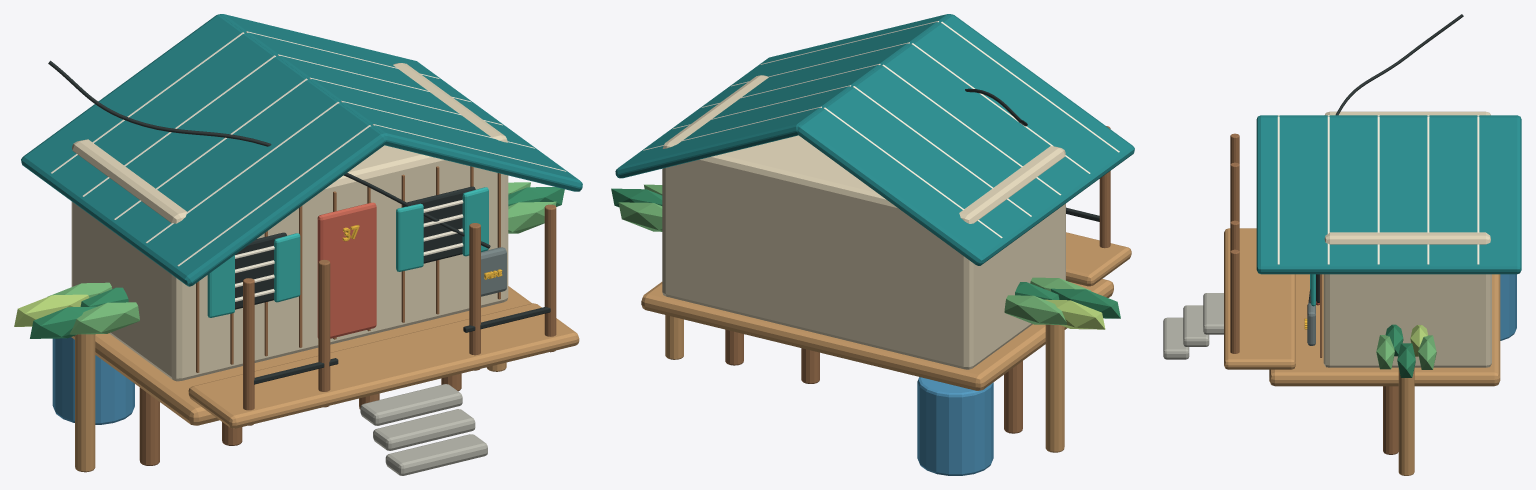
Rendered from kampung-call-v2.glb.
3 renders of one model, left to right at view 1: azimuth 30°, elevation 25°; view 2: azimuth 150°, elevation 25°; view 3: azimuth 270°, elevation 25°, orthographic. The views are drawn at different scales.
Parts seen in each view (by area): view 1: UNCLE LIM KAMPUNG CALL KIT · Deep teal, UNCLE LIM KAMPUNG CALL KIT · Warm plaster, UNCLE LIM KAMPUNG CALL KIT · Sun timber, UNCLE LIM KAMPUNG CALL KIT · Timber, UNCLE LIM KAMPUNG CALL KIT · Concrete, UNCLE LIM KAMPUNG CALL KIT · Ink, UNCLE LIM KAMPUNG CALL KIT · Terracotta, UNCLE LIM KAMPUNG CALL KIT · Weathered teal, UNCLE LIM KAMPUNG CALL KIT · Chalk, UNCLE LIM KAMPUNG CALL KIT · Utility blue, UNCLE LIM KAMPUNG CALL KIT · Plant mid, UNCLE LIM KAMPUNG CALL KIT · Plant deep (+2 smaller); view 2: UNCLE LIM KAMPUNG CALL KIT · Warm plaster, UNCLE LIM KAMPUNG CALL KIT · Deep teal, UNCLE LIM KAMPUNG CALL KIT · Sun timber, UNCLE LIM KAMPUNG CALL KIT · Utility blue, UNCLE LIM KAMPUNG CALL KIT · Timber, UNCLE LIM KAMPUNG CALL KIT · Chalk, UNCLE LIM KAMPUNG CALL KIT · Plant mid, UNCLE LIM KAMPUNG CALL KIT · Plant deep, UNCLE LIM KAMPUNG CALL KIT · Plant lime; view 3: UNCLE LIM KAMPUNG CALL KIT · Deep teal, UNCLE LIM KAMPUNG CALL KIT · Warm plaster, UNCLE LIM KAMPUNG CALL KIT · Sun timber, UNCLE LIM KAMPUNG CALL KIT · Timber, UNCLE LIM KAMPUNG CALL KIT · Concrete, UNCLE LIM KAMPUNG CALL KIT · Chalk, UNCLE LIM KAMPUNG CALL KIT · Utility blue, UNCLE LIM KAMPUNG CALL KIT · Plant mid, UNCLE LIM KAMPUNG CALL KIT · Plant deep, UNCLE LIM KAMPUNG CALL KIT · Ink.
Boxes of the visible parts, x1,y1,x2,y2 form: UNCLE LIM KAMPUNG CALL KIT · Deep teal: [21, 14, 582, 286]; UNCLE LIM KAMPUNG CALL KIT · Warm plaster: [71, 63, 508, 381]; UNCLE LIM KAMPUNG CALL KIT · Sun timber: [71, 286, 579, 472]; UNCLE LIM KAMPUNG CALL KIT · Timber: [139, 166, 556, 465]; UNCLE LIM KAMPUNG CALL KIT · Concrete: [360, 384, 487, 475]; UNCLE LIM KAMPUNG CALL KIT · Ink: [48, 60, 550, 384]; UNCLE LIM KAMPUNG CALL KIT · Terracotta: [317, 202, 376, 338]; UNCLE LIM KAMPUNG CALL KIT · Weathered teal: [207, 187, 488, 317]; UNCLE LIM KAMPUNG CALL KIT · Chalk: [51, 31, 566, 301]; UNCLE LIM KAMPUNG CALL KIT · Utility blue: [52, 337, 134, 424]; UNCLE LIM KAMPUNG CALL KIT · Plant mid: [47, 182, 556, 334]; UNCLE LIM KAMPUNG CALL KIT · Plant deep: [30, 187, 564, 338]; UNCLE LIM KAMPUNG CALL KIT · Warm plaster: [662, 75, 1065, 369]; UNCLE LIM KAMPUNG CALL KIT · Deep teal: [615, 14, 1134, 265]; UNCLE LIM KAMPUNG CALL KIT · Sun timber: [641, 232, 1131, 452]; UNCLE LIM KAMPUNG CALL KIT · Utility blue: [917, 377, 993, 475]; UNCLE LIM KAMPUNG CALL KIT · Timber: [725, 126, 1110, 433]; UNCLE LIM KAMPUNG CALL KIT · Chalk: [643, 21, 1119, 238]; UNCLE LIM KAMPUNG CALL KIT · Plant mid: [618, 184, 1090, 324]; UNCLE LIM KAMPUNG CALL KIT · Plant deep: [611, 188, 1120, 318]; UNCLE LIM KAMPUNG CALL KIT · Plant lime: [1044, 299, 1105, 329]; UNCLE LIM KAMPUNG CALL KIT · Deep teal: [1256, 115, 1521, 274]; UNCLE LIM KAMPUNG CALL KIT · Warm plaster: [1323, 111, 1491, 367]; UNCLE LIM KAMPUNG CALL KIT · Sun timber: [1224, 228, 1500, 475]; UNCLE LIM KAMPUNG CALL KIT · Timber: [1230, 133, 1398, 454]; UNCLE LIM KAMPUNG CALL KIT · Concrete: [1163, 293, 1223, 359]; UNCLE LIM KAMPUNG CALL KIT · Chalk: [1277, 115, 1479, 264]; UNCLE LIM KAMPUNG CALL KIT · Utility blue: [1500, 274, 1516, 340]; UNCLE LIM KAMPUNG CALL KIT · Plant mid: [1376, 335, 1436, 369]; UNCLE LIM KAMPUNG CALL KIT · Plant deep: [1385, 324, 1415, 377]; UNCLE LIM KAMPUNG CALL KIT · Ink: [1308, 14, 1463, 303].
Bounding box in the file's own units: 7.93 × 5.32 × 5.74.
